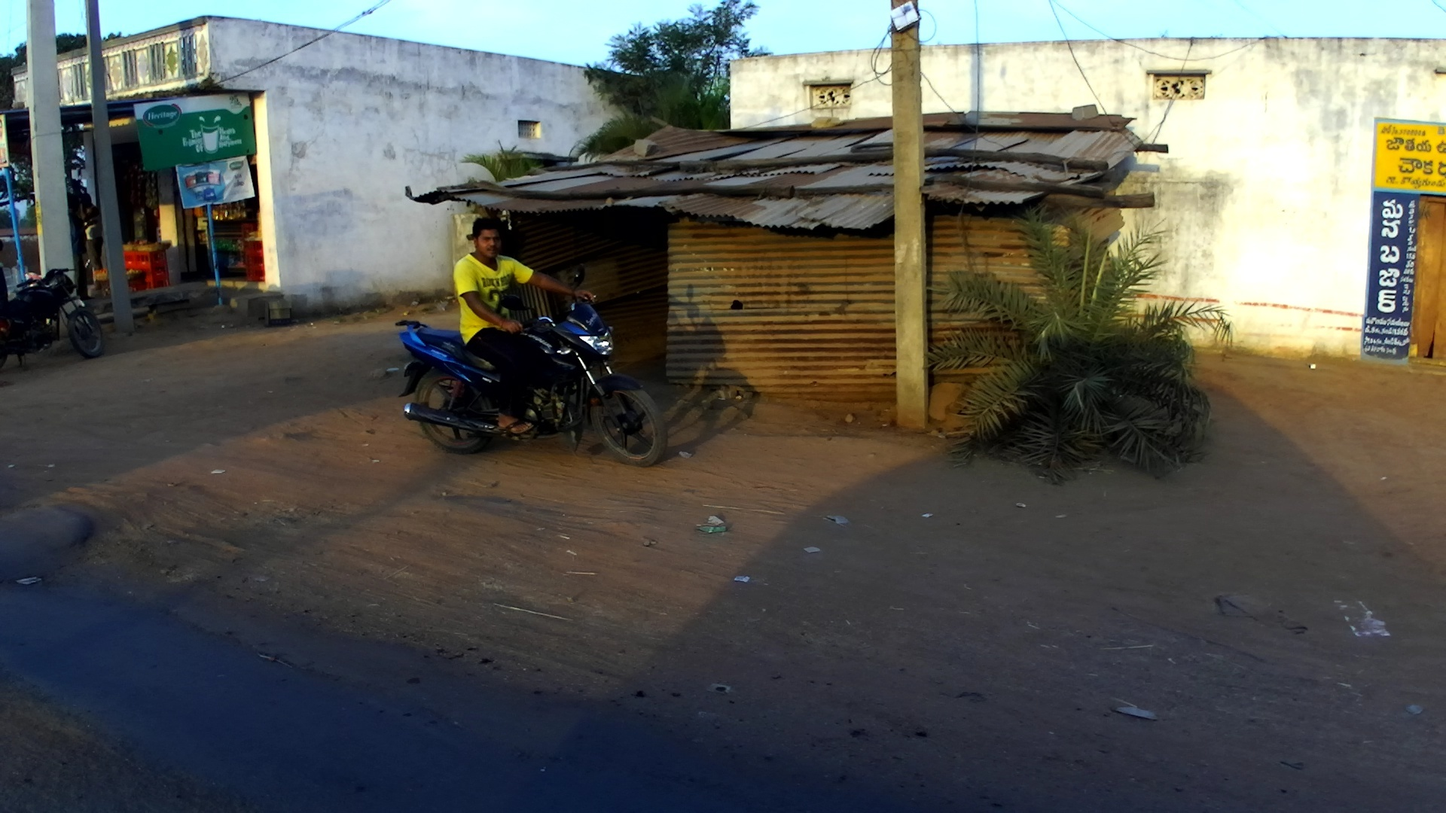motorcycle: (395, 264, 667, 470), (1, 263, 106, 368)
person: (72, 191, 113, 275), (64, 193, 93, 302), (1, 236, 17, 391)
rider: (456, 218, 597, 443)
